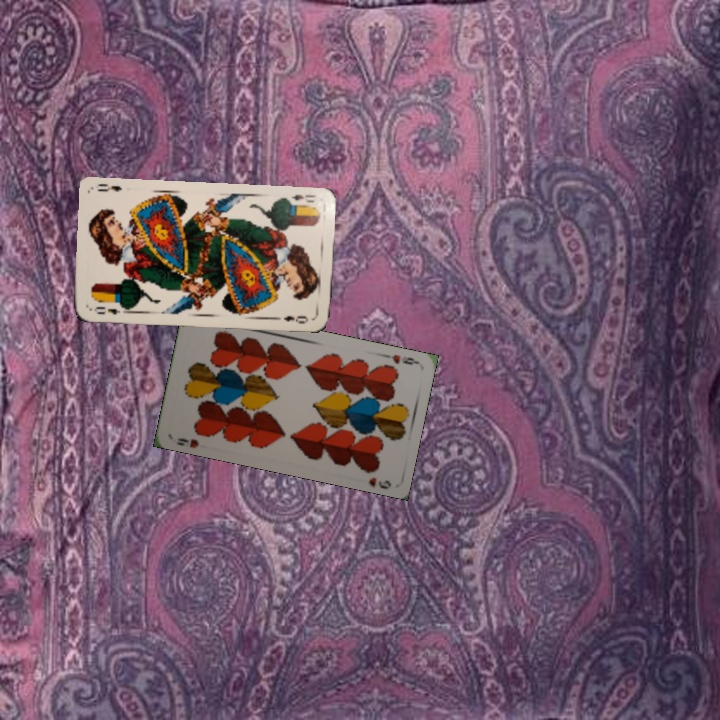EO: (90, 301, 127, 317), (287, 190, 318, 205)
H9: (380, 350, 420, 367), (172, 434, 201, 450)
